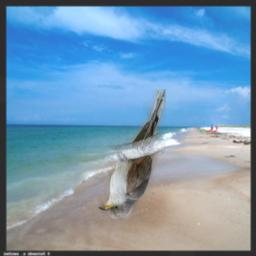Cuckoo: (98, 89, 166, 219)
